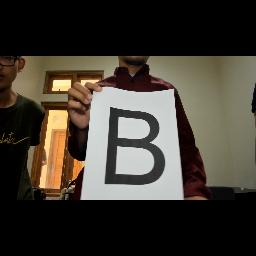b: (102, 106, 168, 188)
